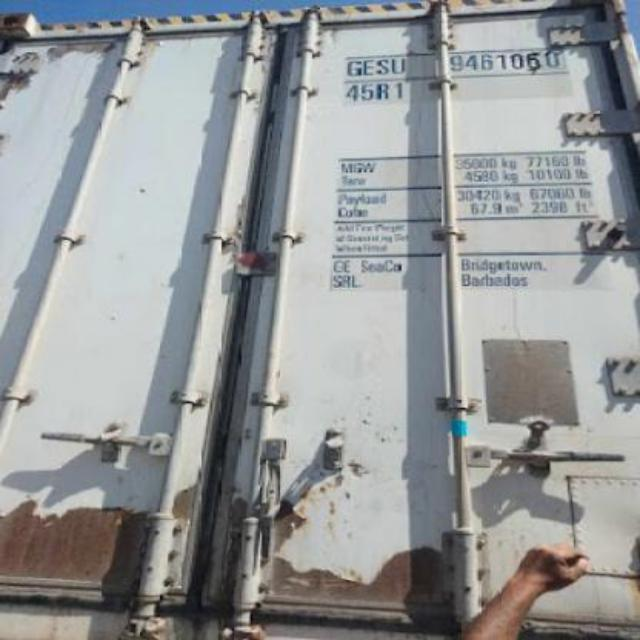0: (544, 45, 562, 71), (512, 49, 526, 75)
1: (496, 49, 509, 75)
4: (462, 51, 480, 74)
6: (524, 49, 544, 70), (478, 49, 494, 75)
9: (444, 48, 466, 72)
E: (360, 56, 378, 80)
G: (340, 54, 364, 78)
S: (376, 54, 388, 82)
U: (390, 54, 408, 78)
